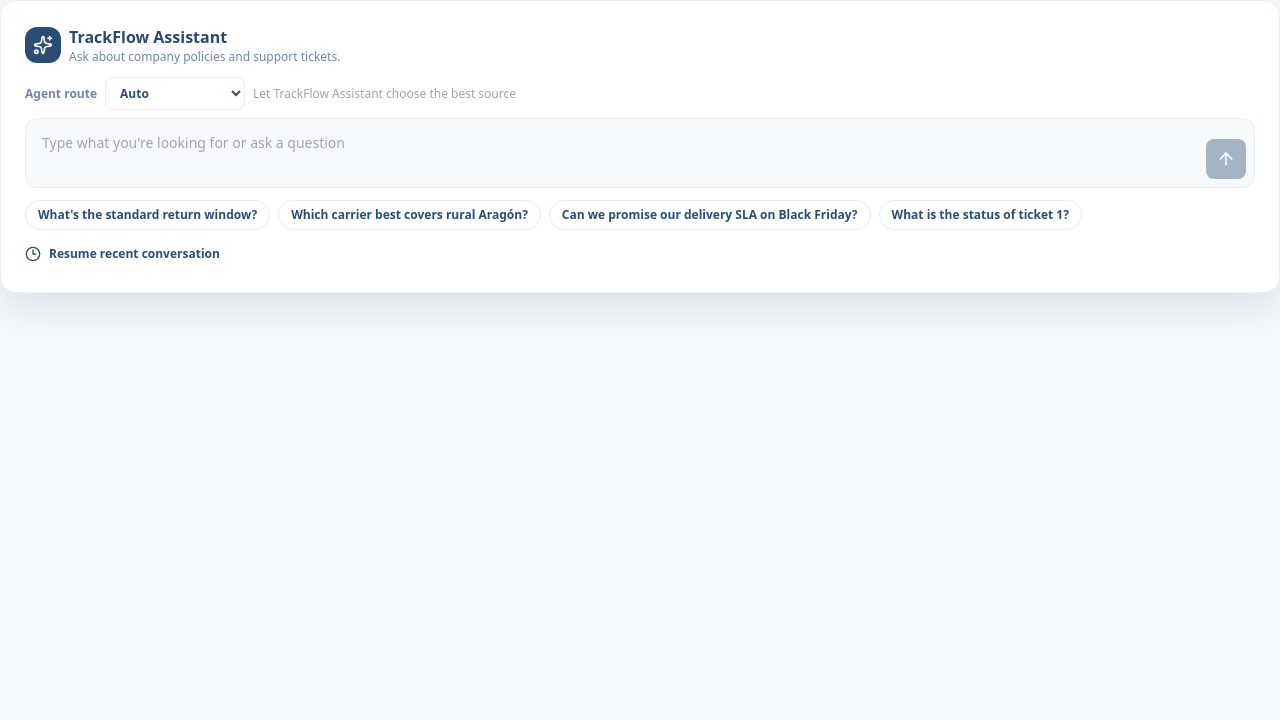
it: Ask knowledge base › opens a recent conversation without creating a new chat session
What coordinates should you click on to do the following:
click the button "Resume recent conversation"
I would click on:
 (122, 254)
Its box is [25, 246, 220, 262].
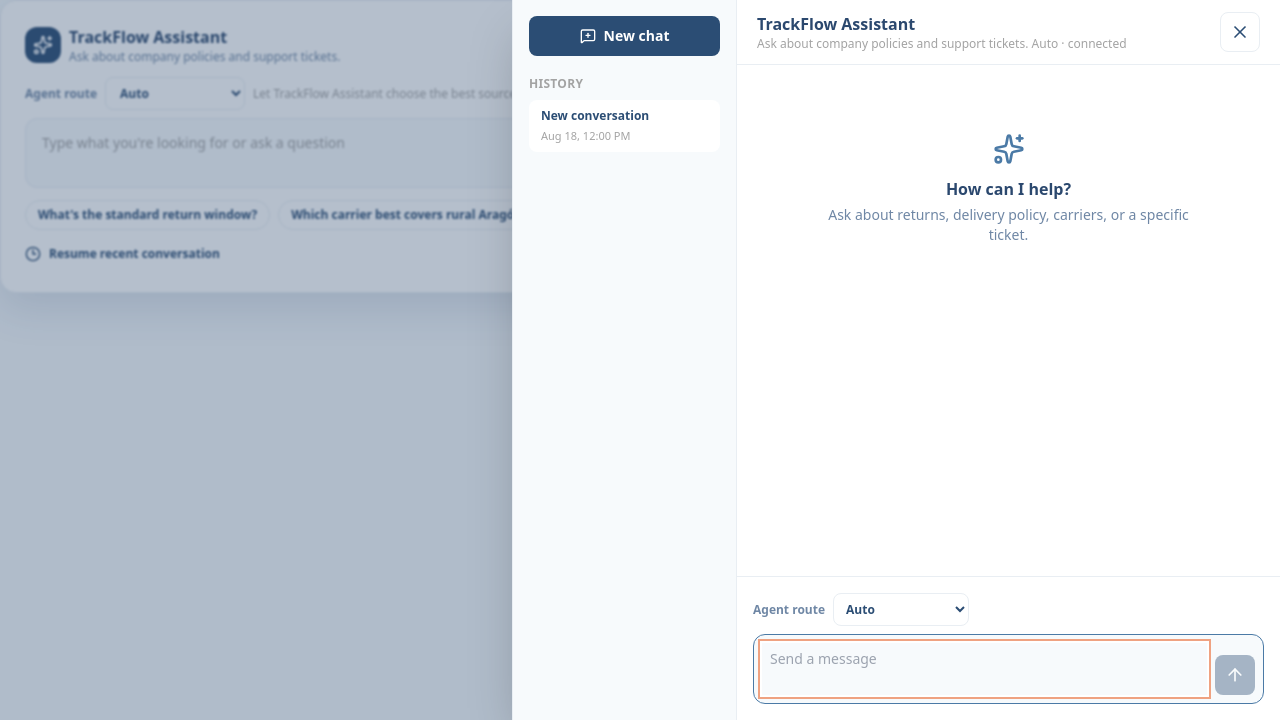
Result: the dialog "TrackFlow Assistant" is shown at [512, 0, 1279, 719]
